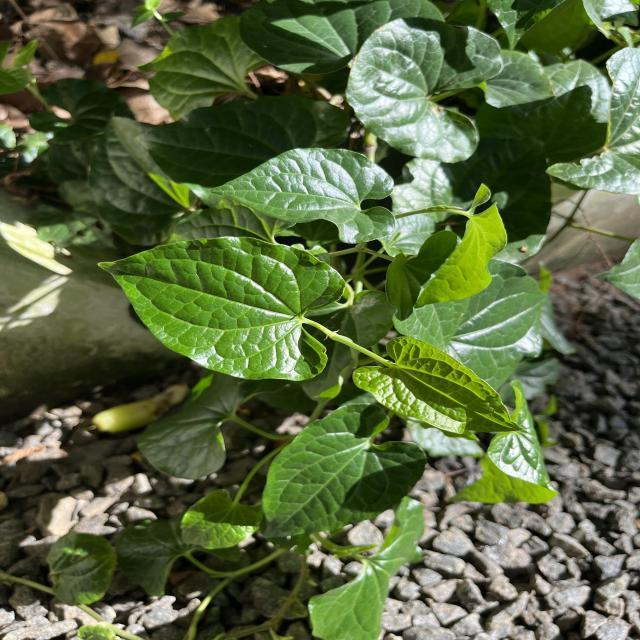Piper longum: (94, 234, 349, 384), (207, 142, 401, 245), (348, 333, 534, 438)
